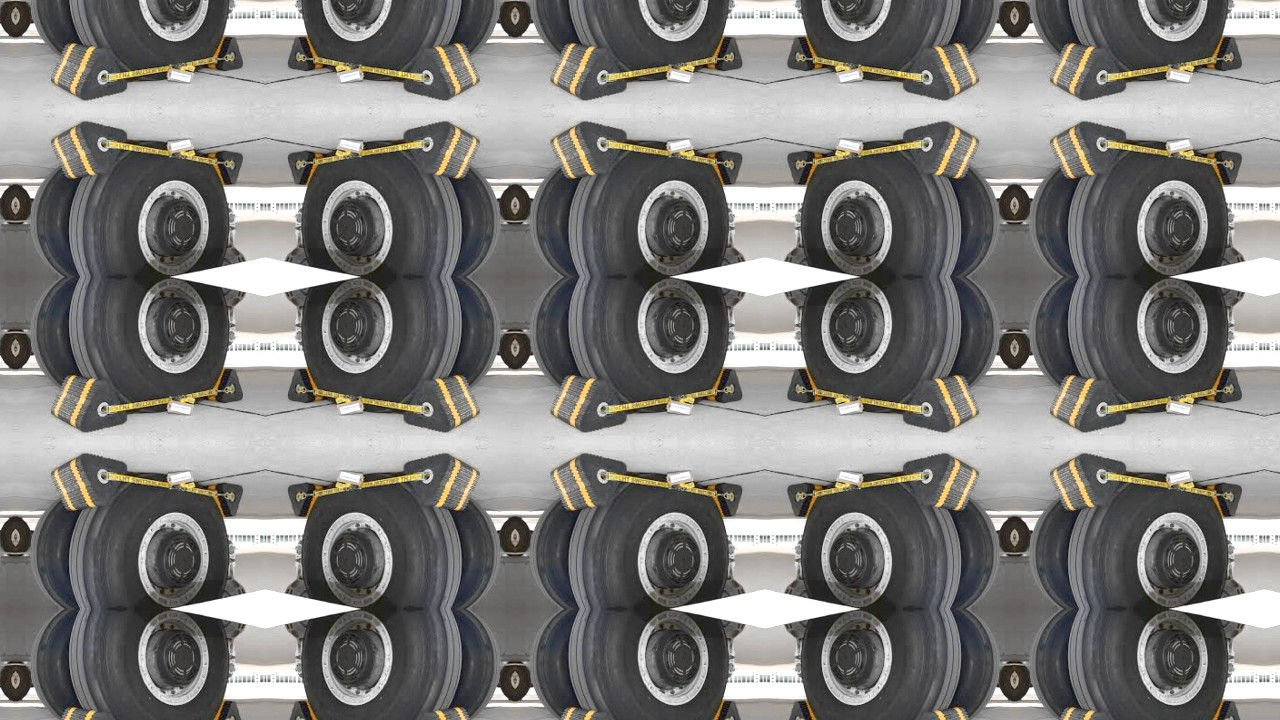chock: (49, 42, 128, 100), (402, 42, 481, 100), (549, 42, 628, 100), (902, 42, 981, 100), (1049, 42, 1128, 100), (49, 121, 128, 179), (402, 121, 481, 179), (549, 121, 628, 179), (902, 121, 981, 179), (1049, 121, 1128, 179), (49, 375, 128, 432), (402, 375, 481, 432), (549, 375, 628, 432), (902, 375, 981, 432), (1049, 375, 1128, 432), (49, 454, 128, 511), (402, 454, 481, 511), (549, 454, 628, 511), (902, 454, 981, 511), (1049, 454, 1128, 511), (213, 35, 243, 70), (287, 35, 317, 70), (713, 35, 743, 70), (787, 35, 817, 70), (1213, 35, 1243, 70), (213, 151, 243, 186), (287, 151, 317, 186), (713, 151, 743, 186), (787, 151, 817, 186), (1213, 151, 1243, 186), (49, 707, 128, 720), (402, 707, 481, 720), (549, 707, 628, 720), (902, 707, 981, 720), (1049, 707, 1128, 720), (213, 368, 243, 402), (287, 368, 317, 402), (713, 368, 743, 402), (787, 368, 817, 402), (1213, 368, 1243, 402), (213, 484, 243, 518), (287, 484, 317, 518), (713, 484, 743, 518), (787, 484, 817, 518), (1213, 484, 1243, 518), (213, 700, 243, 720), (287, 700, 317, 720), (713, 700, 743, 720), (787, 700, 817, 720), (1213, 700, 1243, 720)
wheel: (63, 277, 236, 406), (294, 277, 467, 406), (563, 277, 736, 406), (794, 277, 967, 406), (1063, 277, 1236, 406), (63, 148, 236, 276), (294, 148, 467, 276), (563, 148, 736, 276), (794, 148, 967, 276), (1063, 148, 1236, 276), (63, 481, 236, 609), (294, 481, 467, 609), (563, 481, 736, 609), (794, 481, 967, 609), (1063, 481, 1236, 609), (63, 610, 236, 720), (294, 610, 467, 720), (563, 610, 736, 720), (794, 610, 967, 720), (1063, 610, 1236, 720), (63, 0, 236, 73), (294, 0, 467, 73), (563, 0, 736, 73), (794, 0, 967, 73), (1063, 0, 1236, 73), (31, 167, 86, 277), (444, 167, 499, 277), (531, 167, 586, 277), (944, 167, 999, 277), (1031, 167, 1086, 277), (31, 277, 86, 387), (444, 277, 499, 387), (531, 277, 586, 387), (944, 277, 999, 387), (1031, 277, 1086, 387), (31, 499, 86, 609), (444, 499, 499, 609), (531, 499, 586, 609), (944, 499, 999, 609), (1031, 499, 1086, 609), (31, 609, 86, 719), (444, 609, 499, 719), (531, 609, 586, 719), (944, 609, 999, 719), (1031, 609, 1086, 719), (31, 0, 86, 54), (444, 0, 499, 54), (531, 0, 586, 54), (944, 0, 999, 54), (1031, 0, 1086, 54), (15, 1, 31, 36), (499, 1, 515, 36), (515, 1, 531, 36), (999, 1, 1015, 36), (1015, 1, 1031, 36), (15, 185, 31, 220), (499, 185, 515, 220), (515, 185, 531, 220), (999, 185, 1015, 220), (1015, 185, 1031, 220), (15, 333, 31, 368), (499, 333, 515, 368), (515, 333, 531, 368), (999, 333, 1015, 368), (1015, 333, 1031, 368), (15, 518, 31, 553), (499, 518, 515, 553), (515, 518, 531, 553), (999, 518, 1015, 553), (1015, 518, 1031, 553), (15, 666, 31, 701), (499, 666, 515, 701), (515, 666, 531, 701), (999, 666, 1015, 701), (1015, 666, 1031, 701), (0, 1, 15, 36), (0, 185, 15, 220), (0, 333, 15, 368), (0, 518, 15, 553), (0, 666, 15, 701)
